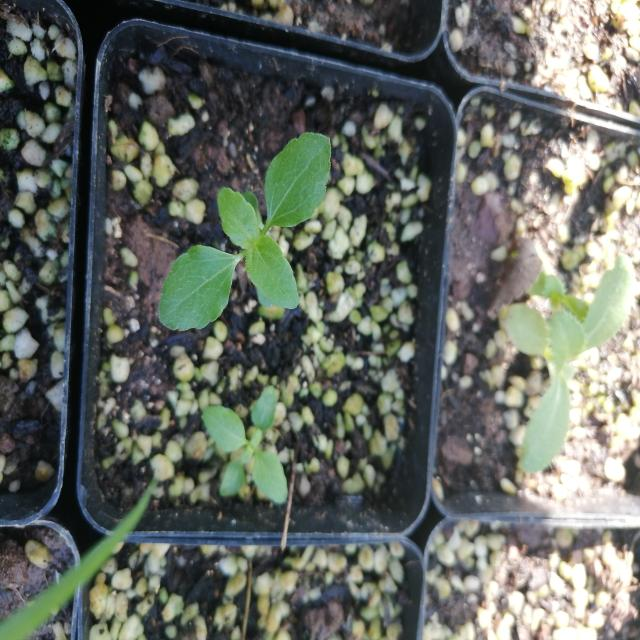billygoat_weed: (139, 127, 338, 336), (196, 364, 297, 510)
